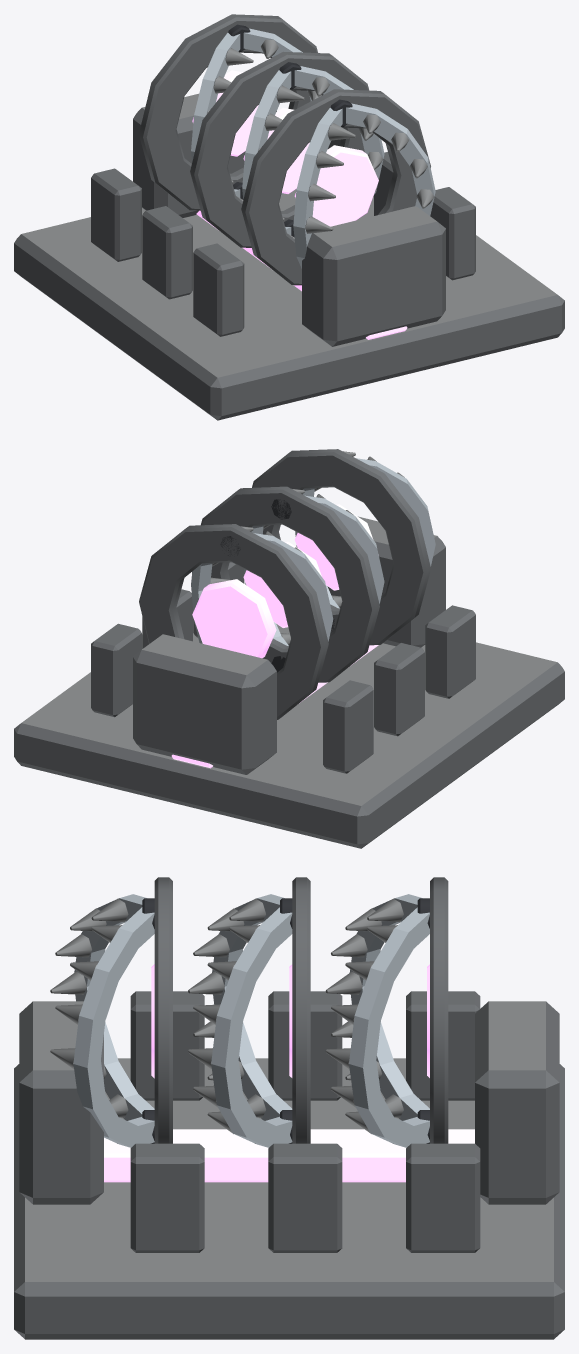
The model's file is R4X_SnareTrapDeployer_LOD1.glb.
3 renders of one model, top to bottom at view 1: azimuth 30°, elevation 25°; view 2: azimuth 150°, elevation 25°; view 3: azimuth 270°, elevation 25°, orthographic. The views are drawn at different scales.
Visible parts, largest first — view 1: R4X_SnareTrapDeployer_LOD1; view 2: R4X_SnareTrapDeployer_LOD1; view 3: R4X_SnareTrapDeployer_LOD1.
Part boxes in pixels (left/top/right/bottom): R4X_SnareTrapDeployer_LOD1: left=14, top=14, right=564, bottom=420; R4X_SnareTrapDeployer_LOD1: left=14, top=449, right=564, bottom=848; R4X_SnareTrapDeployer_LOD1: left=14, top=877, right=564, bottom=1339.
Bounding box in the file's own units: 0.52 × 0.3513 × 0.52.
